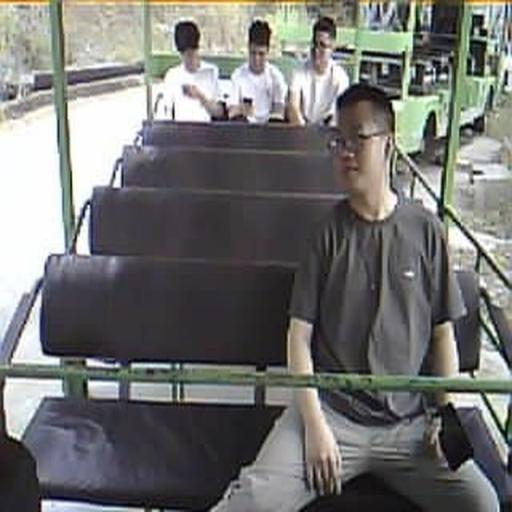persona: (210, 82, 501, 511), (287, 16, 351, 128), (227, 19, 288, 124), (160, 19, 222, 122)
